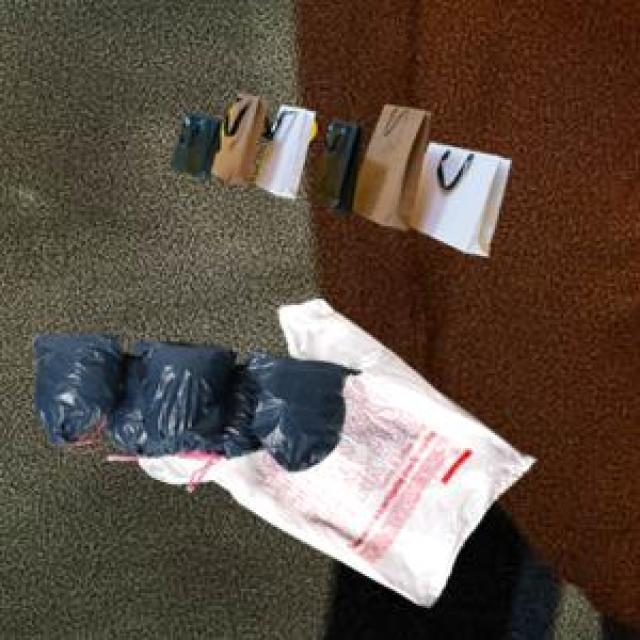miscellaneous trash: (28, 329, 355, 467)
paper: (166, 90, 506, 252)
